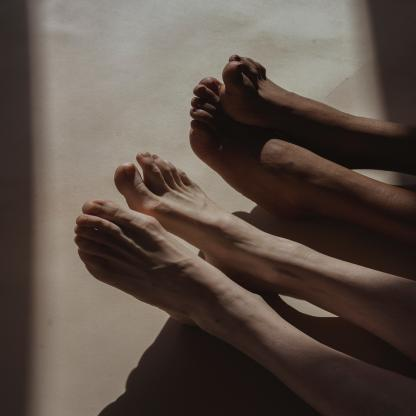leg: (66, 152, 397, 410), (185, 35, 416, 217)
